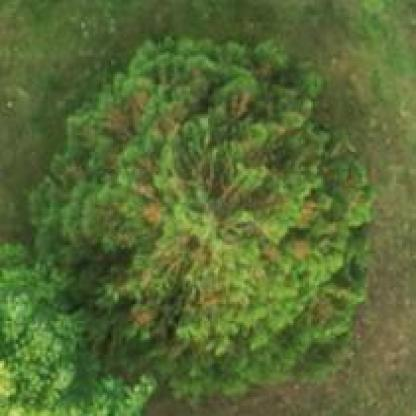Coniferous Tree: (19, 26, 399, 387), (0, 257, 148, 416)
